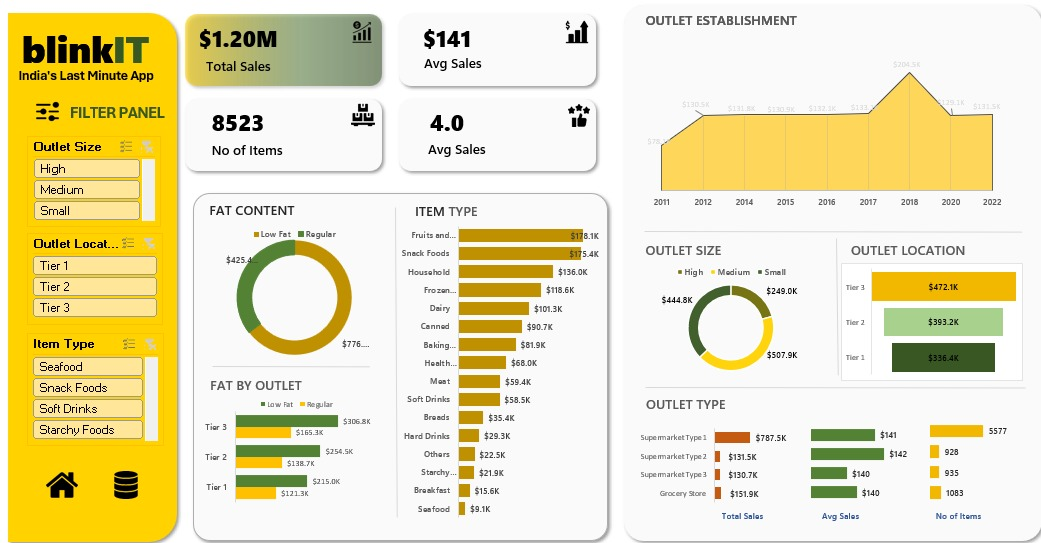

This screenshot's page, from the dashboard's own definition file:
{"tool":"powerbi","page":{"name":"Page 1","canvas":[1400,800],"ordinal":0},"visuals":[{"type":"shape","box":[8,25.5,205.1,749.3],"z":0},{"type":"textbox","box":[30.8,46.9,151.5,73.7],"z":1000},{"type":"textbox","box":[36.2,120.6,140.8,33.5],"z":2000},{"type":"shape","box":[237.3,274.8,555,500],"z":3000},{"type":"donutChart","title":"FAT CONTENT","fields":{"Y":["BlinkIT Grocery Data.Avg Sales"],"Category":["BlinkIT Grocery Data.Item Fat Content"]},"box":[246.7,337.8,260.1,230.6],"z":4000},{"type":"slicer","fields":{"Values":["Metrics.Metrics"]},"box":[282.8,297.6,465.1,40.2],"z":5000},{"type":"cardVisual","fields":{"Data":["BlinkIT Grocery Data.Avg Sales"]},"box":[312.3,433,132.7,71],"z":6000},{"type":"clusteredBarChart","title":"FAT BY OUTLET","fields":{"Y":["BlinkIT Grocery Data.Avg Sales"],"Category":["BlinkIT Grocery Data.Outlet Location Type"],"Series":["BlinkIT Grocery Data.Item Fat Content"]},"box":[246.7,568.4,215.8,197.1],"z":7000},{"type":"shape","box":[270.8,545.6,210.5,13.4],"z":8000},{"type":"shape","box":[493.3,353.9,13.4,395.4],"z":9000},{"type":"barChart","title":"ITEM TYPE","fields":{"Y":["BlinkIT Grocery Data.Avg Sales"],"Category":["BlinkIT Grocery Data.Item Type"]},"box":[500,337.8,282.8,427.6],"z":10000},{"type":"shape","box":[792.2,34.9,607.2,740],"z":11000},{"type":"lineChart","title":"OUTLET ESTABLISHMENT","fields":{"Category":["BlinkIT Grocery Data.Outlet Establishment Year"],"Y":["BlinkIT Grocery Data.Total Sales"]},"box":[808.3,46.9,560.3,230.6],"z":12000},{"type":"shape","box":[840.5,282.8,528.2,20.1],"z":13000},{"type":"donutChart","title":"OUTLET SIZE","fields":{"Y":["BlinkIT Grocery Data.Total Sales"],"Category":["BlinkIT Grocery Data.Outlet Size"]},"box":[808.3,297.6,274.8,225.2],"z":14000},{"type":"shape","box":[1063,312.3,13.4,197.1],"z":15000},{"type":"funnel","title":"OUTLET LOCATION","fields":{"Category":["BlinkIT Grocery Data.Outlet Location Type"],"Y":["BlinkIT Grocery Data.Total Sales"]},"box":[1083.1,312.3,289.5,191.7],"z":16000},{"type":"shape","box":[819,509.4,528.2,20.1],"z":17000},{"type":"cardVisual","fields":{"Data":["BlinkIT Grocery Data.Total Sales","BlinkIT Grocery Data.Avg Sales","BlinkIT Grocery Data.No of Items","BlinkIT Grocery Data.Avg rating"]},"box":[246.7,34.9,545.6,248],"z":18000},{"type":"pivotTable","title":"OUTLET TYPE","fields":{"Rows":["BlinkIT Grocery Data.Outlet Type"],"Values":["BlinkIT Grocery Data.Total Sales","BlinkIT Grocery Data.No of Items","BlinkIT Grocery Data.Avg rating","BlinkIT Grocery Data.Avg Sales","Sum(BlinkIT Grocery Data.Item Visibility)"]},"box":[819,545.6,549.6,203.8],"z":19000},{"type":"slicer","fields":{"Values":["BlinkIT Grocery Data.Outlet Location Type"]},"box":[26.8,246.7,167.6,71],"z":20000},{"type":"slicer","fields":{"Values":["BlinkIT Grocery Data.Outlet Size"]},"box":[28.2,333.8,167.6,71],"z":21000},{"type":"slicer","fields":{"Values":["BlinkIT Grocery Data.Item Type"]},"box":[28.2,433,167.6,71],"z":22000},{"type":"textbox","box":[59,197.1,95.2,37.5],"z":23000}]}

Visuals, with their boxes on the page's 1400x800 design canvas (x1, y1, x2, y2). These are canvas units, not pixel positions in the 1041x543 screenshot, which may show the page scaled, cropped or inside an application window:
shape: [8,26,213,775]
textbox: [31,47,182,121]
textbox: [36,121,177,154]
shape: [237,275,792,775]
"FAT CONTENT" donutChart: [247,338,507,568]
slicer - Metrics.Metrics: [283,298,748,338]
cardVisual - BlinkIT Grocery Data.Avg Sales: [312,433,445,504]
"FAT BY OUTLET" clusteredBarChart: [247,568,462,766]
shape: [271,546,481,559]
shape: [493,354,507,749]
"ITEM TYPE" barChart: [500,338,783,765]
shape: [792,35,1399,775]
"OUTLET ESTABLISHMENT" lineChart: [808,47,1369,278]
shape: [840,283,1369,303]
"OUTLET SIZE" donutChart: [808,298,1083,523]
shape: [1063,312,1076,509]
"OUTLET LOCATION" funnel: [1083,312,1373,504]
shape: [819,509,1347,530]
cardVisual - BlinkIT Grocery Data.Total Sales x BlinkIT Grocery Data.Avg Sales: [247,35,792,283]
"OUTLET TYPE" pivotTable: [819,546,1369,749]
slicer - BlinkIT Grocery Data.Outlet Location Type: [27,247,194,318]
slicer - BlinkIT Grocery Data.Outlet Size: [28,334,196,405]
slicer - BlinkIT Grocery Data.Item Type: [28,433,196,504]
textbox: [59,197,154,235]
